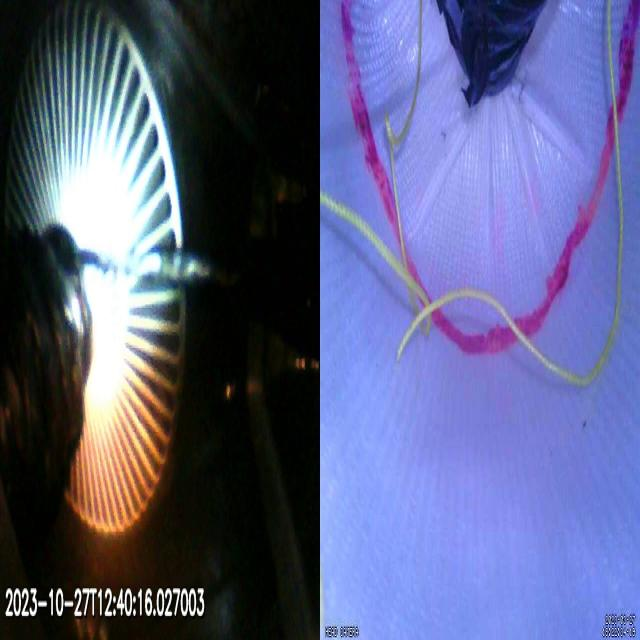red-circle: (340, 0, 640, 356)
